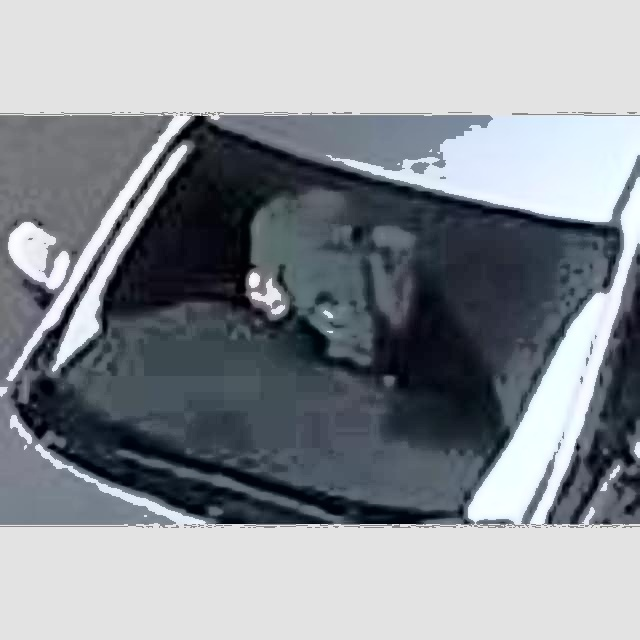tidak-pakai: (213, 181, 431, 380)
